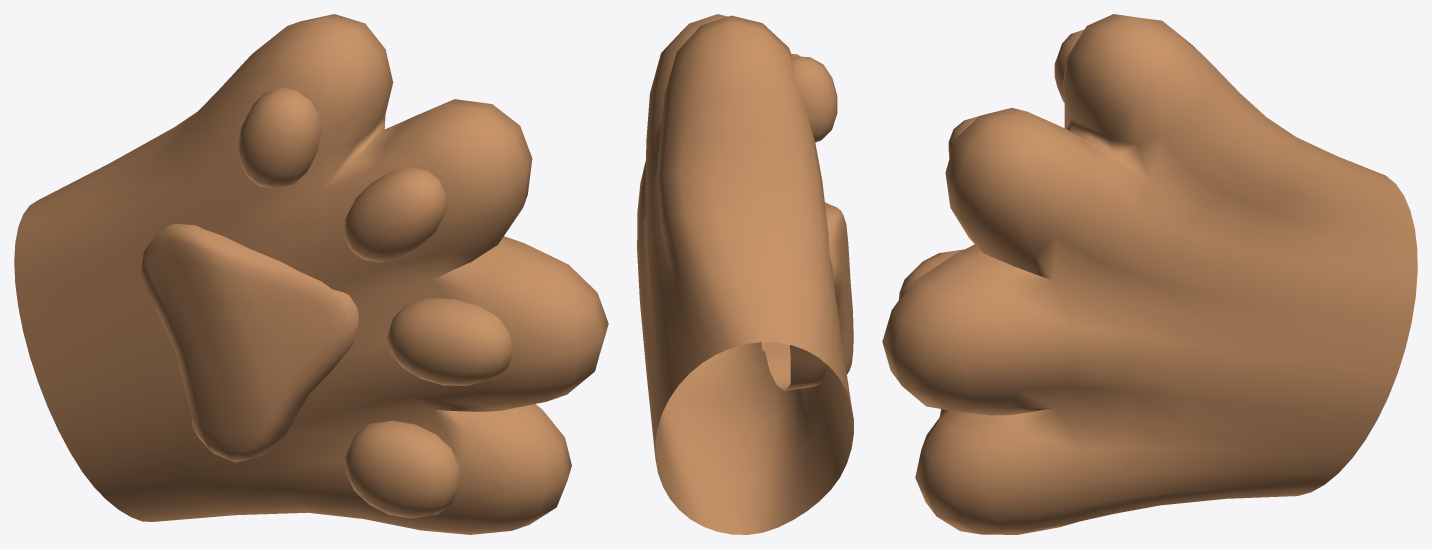
The model's file is PayHit.fbx.
3 renders of one model, left to right at view 1: azimuth 30°, elevation 25°; view 2: azimuth 150°, elevation 25°; view 3: azimuth 270°, elevation 25°, orthographic. The views are drawn at different scales.
Parts seen in each view (by area): view 1: Paw, pCube12; view 2: Paw, pCube12; view 3: Paw, pCube12.
Boxes of the visible parts, x1=… form: Paw: x1=14, y1=14, x2=608, y2=534; pCube12: x1=140, y1=87, x2=513, y2=518; Paw: x1=637, y1=14, x2=853, y2=534; pCube12: x1=761, y1=54, x2=853, y2=390; Paw: x1=882, y1=14, x2=1417, y2=534; pCube12: x1=899, y1=29, x2=1084, y2=416.
Size of the model in its own units: 69.15 by 87.56 by 82.22.
